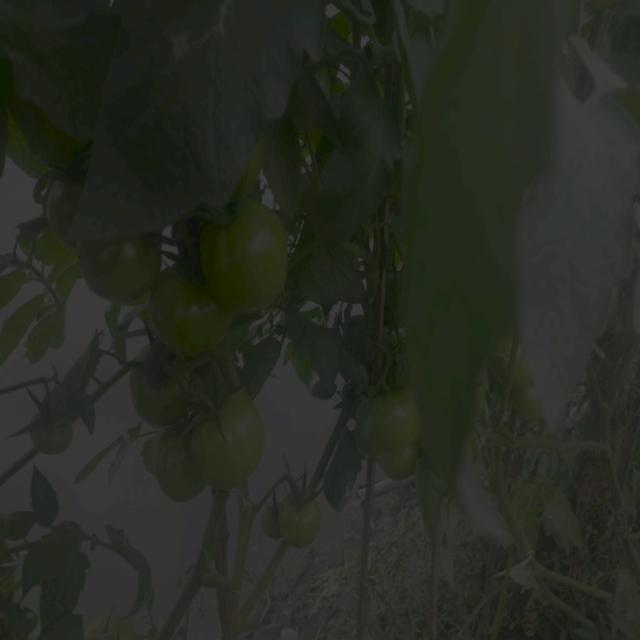tomato: (215, 213, 293, 318), (364, 390, 428, 489), (16, 382, 93, 464), (195, 401, 268, 475), (263, 488, 328, 551), (38, 170, 92, 244), (160, 278, 212, 351), (95, 236, 149, 306), (126, 360, 185, 421), (440, 426, 488, 493), (230, 131, 269, 204), (151, 436, 194, 500), (86, 613, 146, 640), (498, 340, 527, 382), (517, 383, 543, 422), (467, 379, 494, 416)
